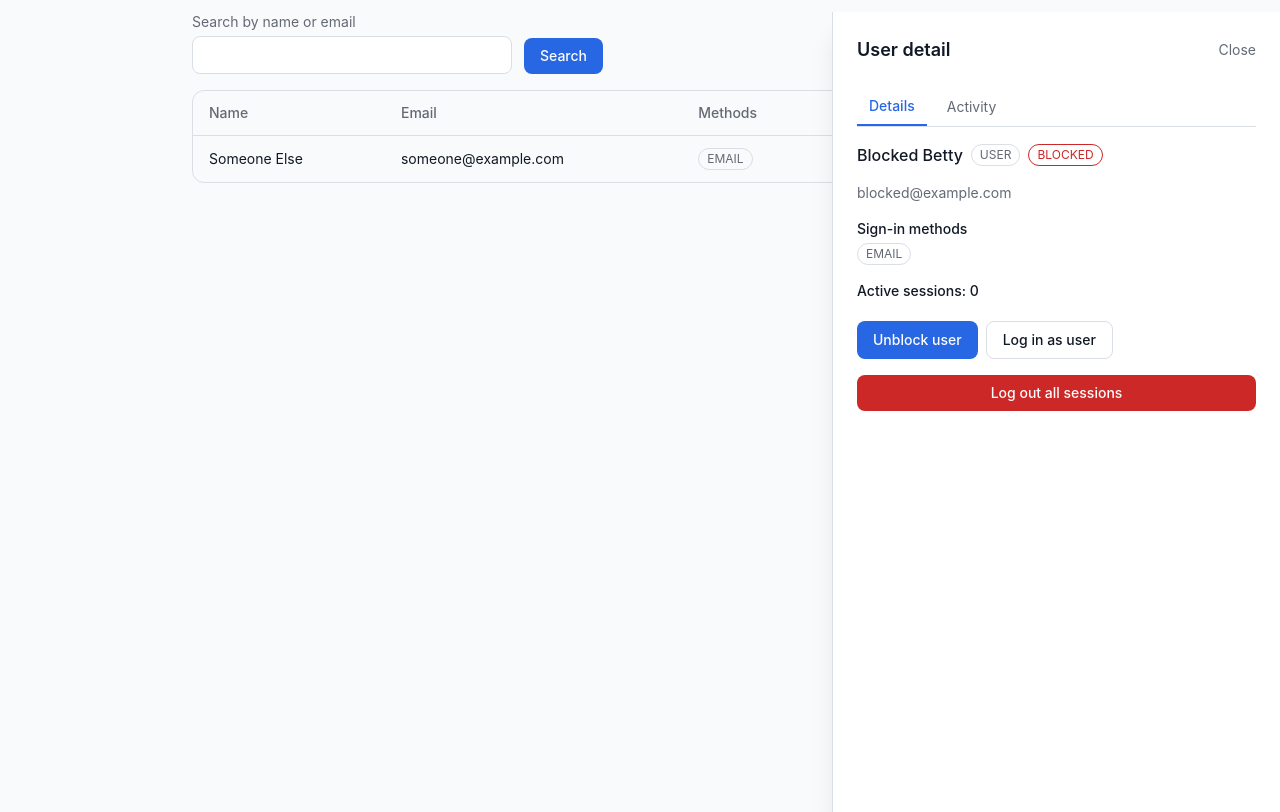
UsersPage › closes the drawer and clears the param, without reopening it
This screenshot has width=1280, height=812.
Expected: the text "Blocked Betty" is shown, [857,143,963,167]
Click the button "Close": (1237, 50) [1218,40,1256,60]
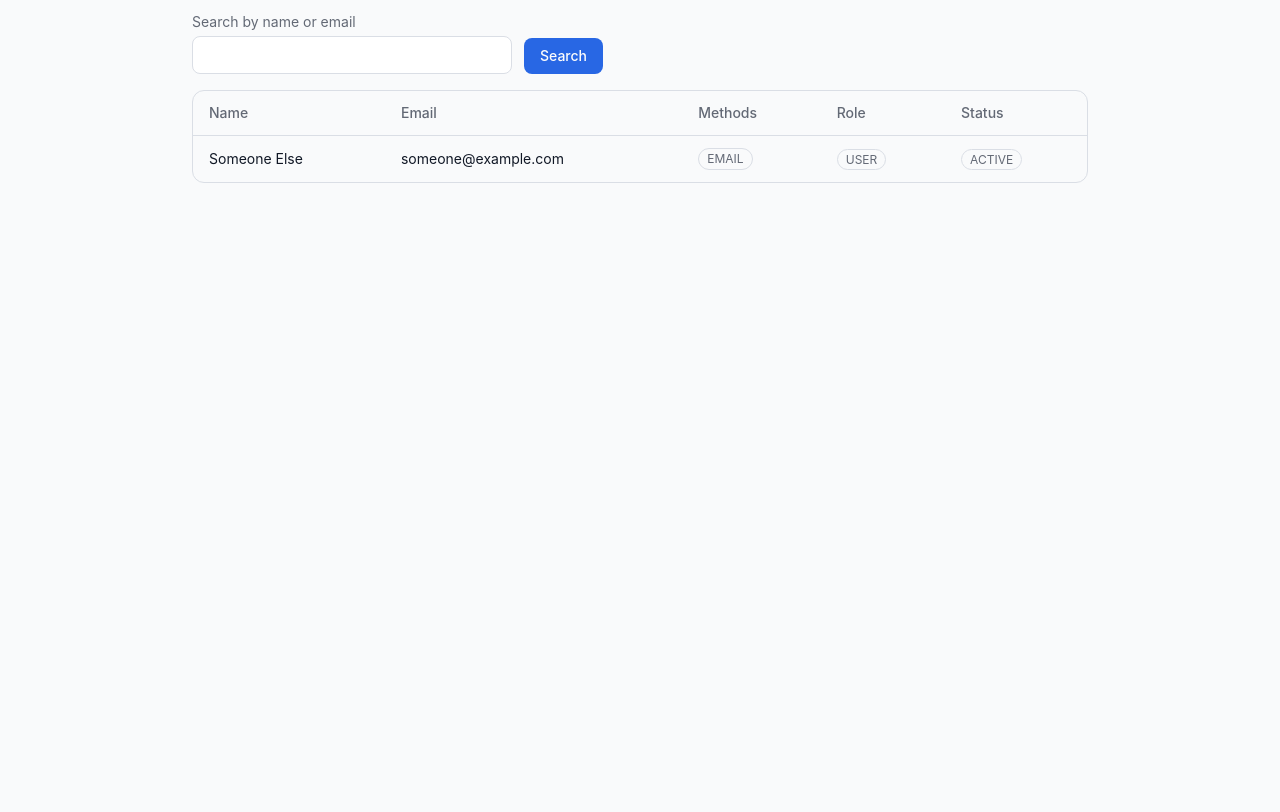
Expected: the heading "User detail" is gone
